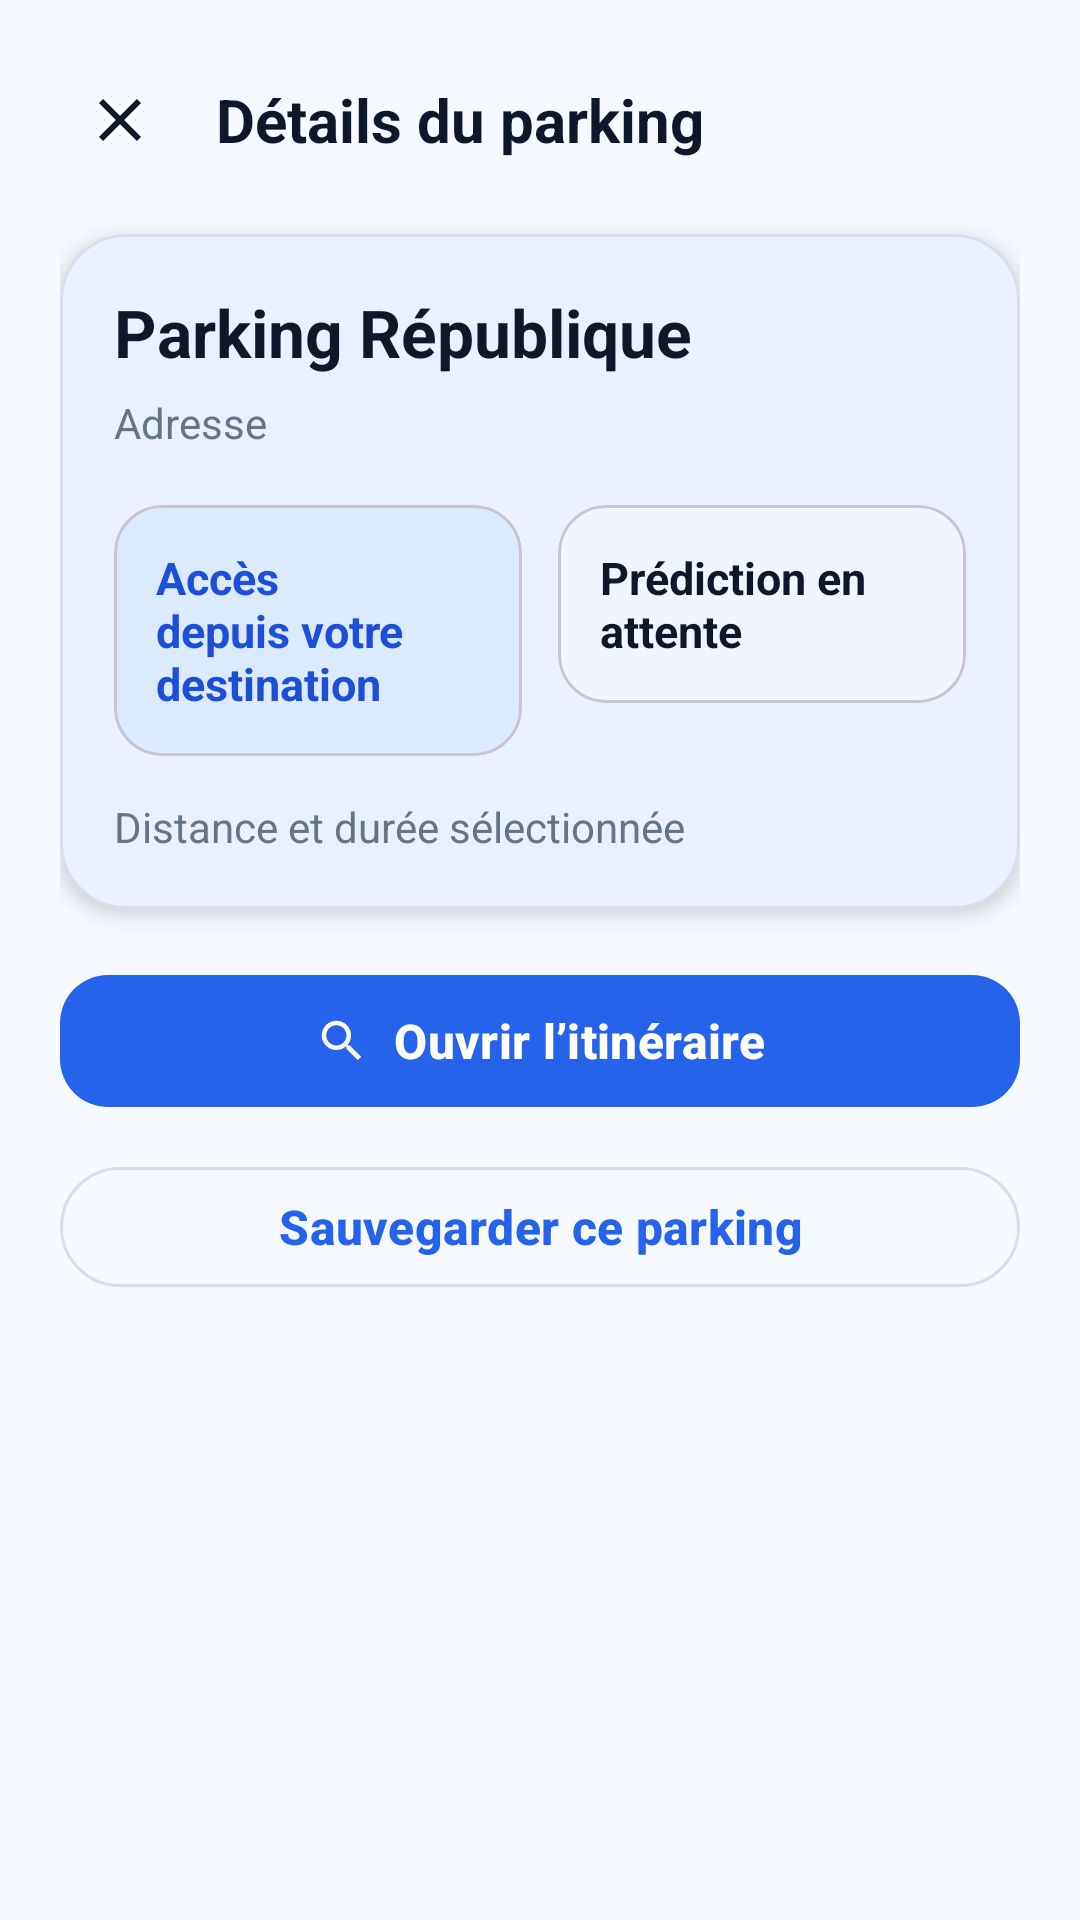

Point at icon controls on the screen. Image size 1080px x 1920px, points as (x=x, y=y).
Fermer: (x=120, y=120)
